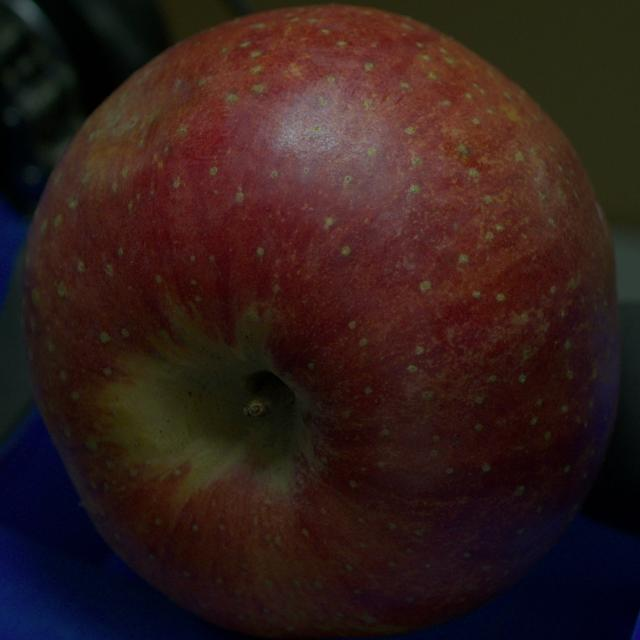apple: (21, 6, 619, 639)
bruise: (86, 65, 221, 184)
